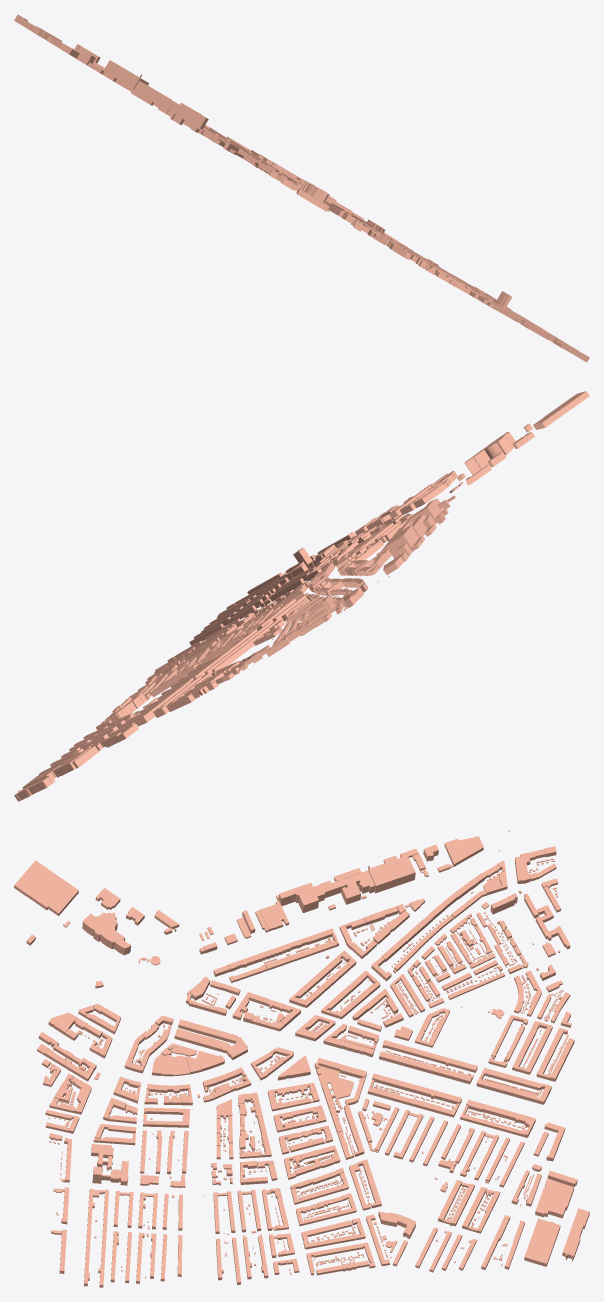
3 renders of one model, top to bottom at view 1: azimuth 30°, elevation 25°; view 2: azimuth 150°, elevation 25°; view 3: azimuth 270°, elevation 25°, orthographic. The views are drawn at different scales.
Size of the model in its own units: 963 by 701 by 1304.
